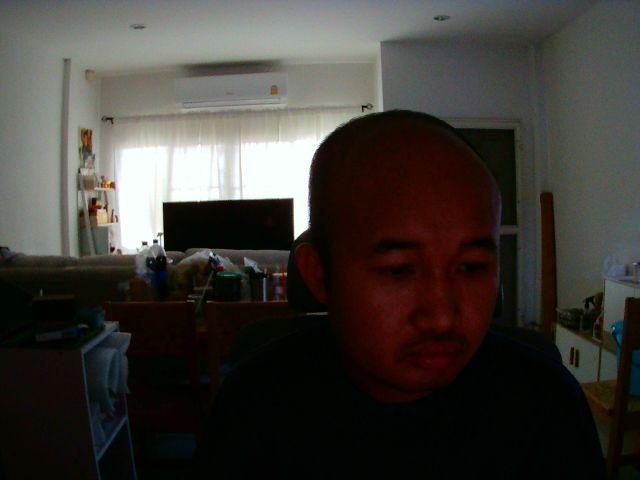face: (307, 111, 499, 392)
